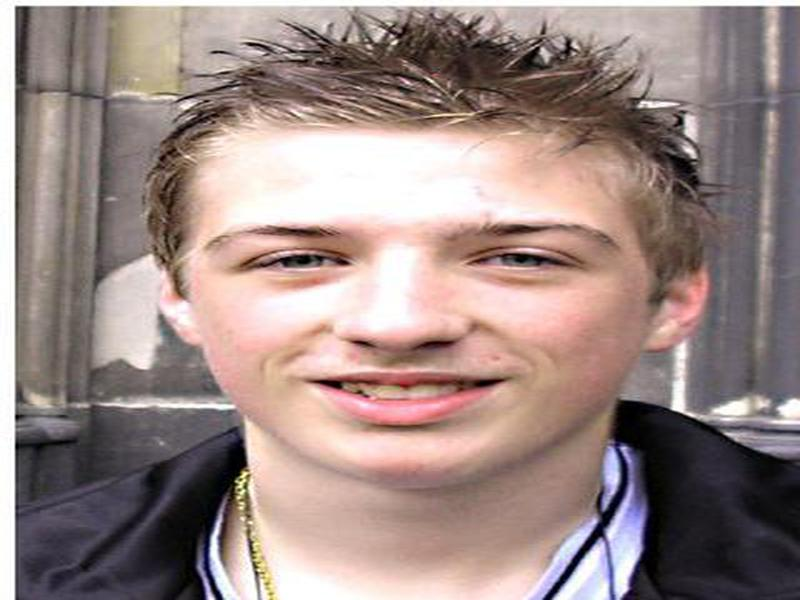without_mask: (180, 146, 649, 493)
